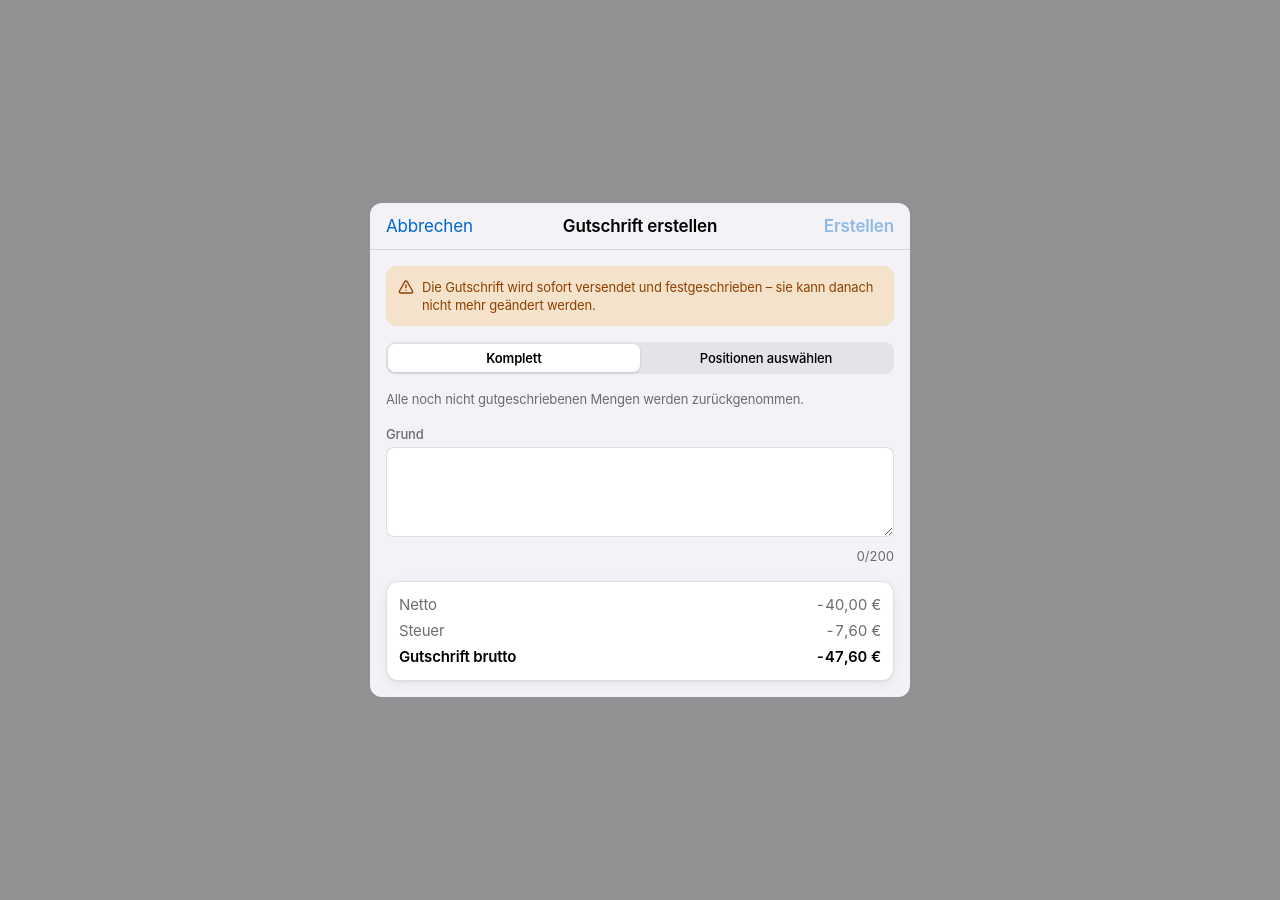
it: GutschriftSheet › zeigt Serverfehler im Sheet und lässt das Sheet offen
Type "Grund" into the text box labelled "Grund" at {"x": 640, "y": 492}, box top-left (386, 447), bottom-right (894, 537)
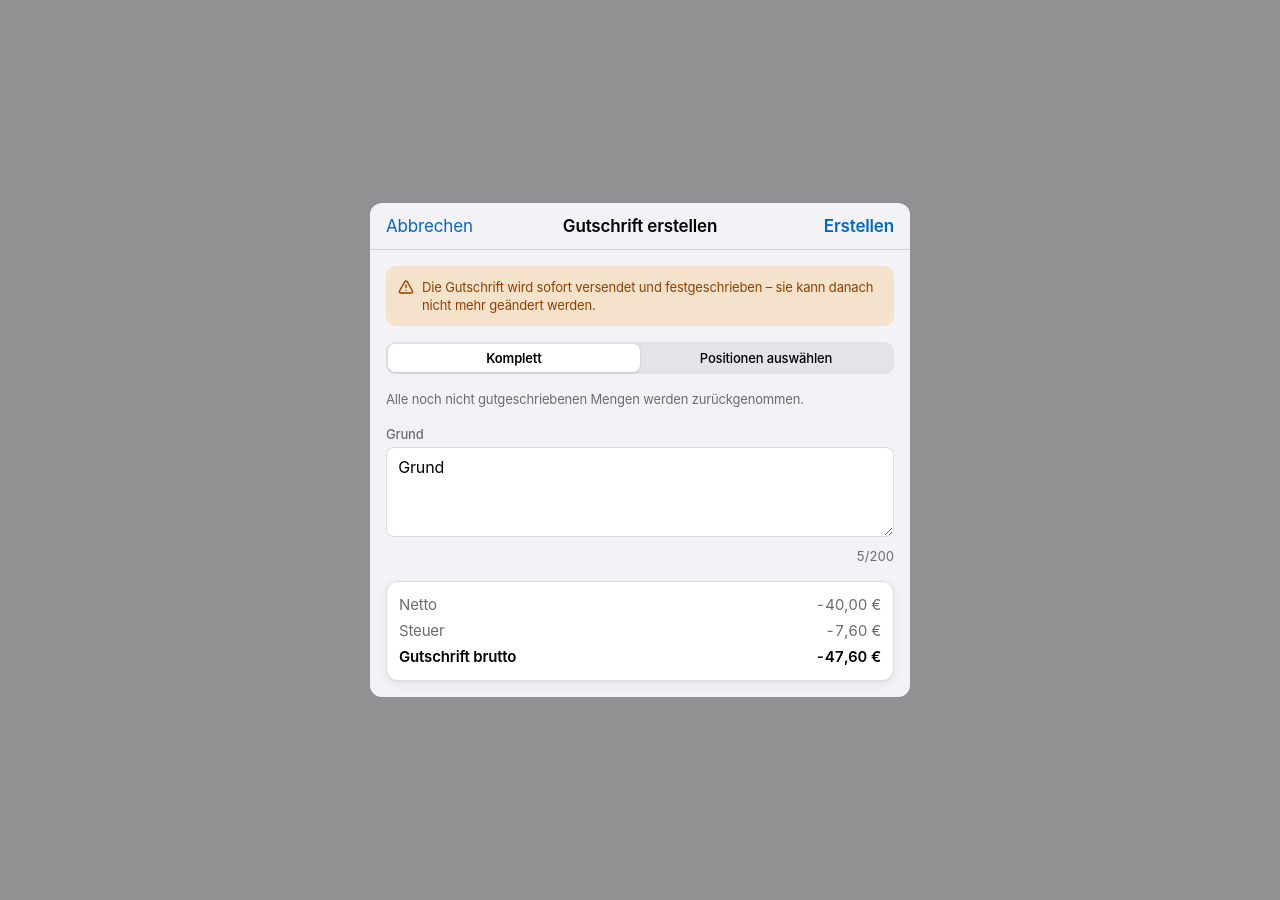
Click the button "Erstellen" at {"x": 859, "y": 226}, box top-left (824, 215), bottom-right (894, 237)
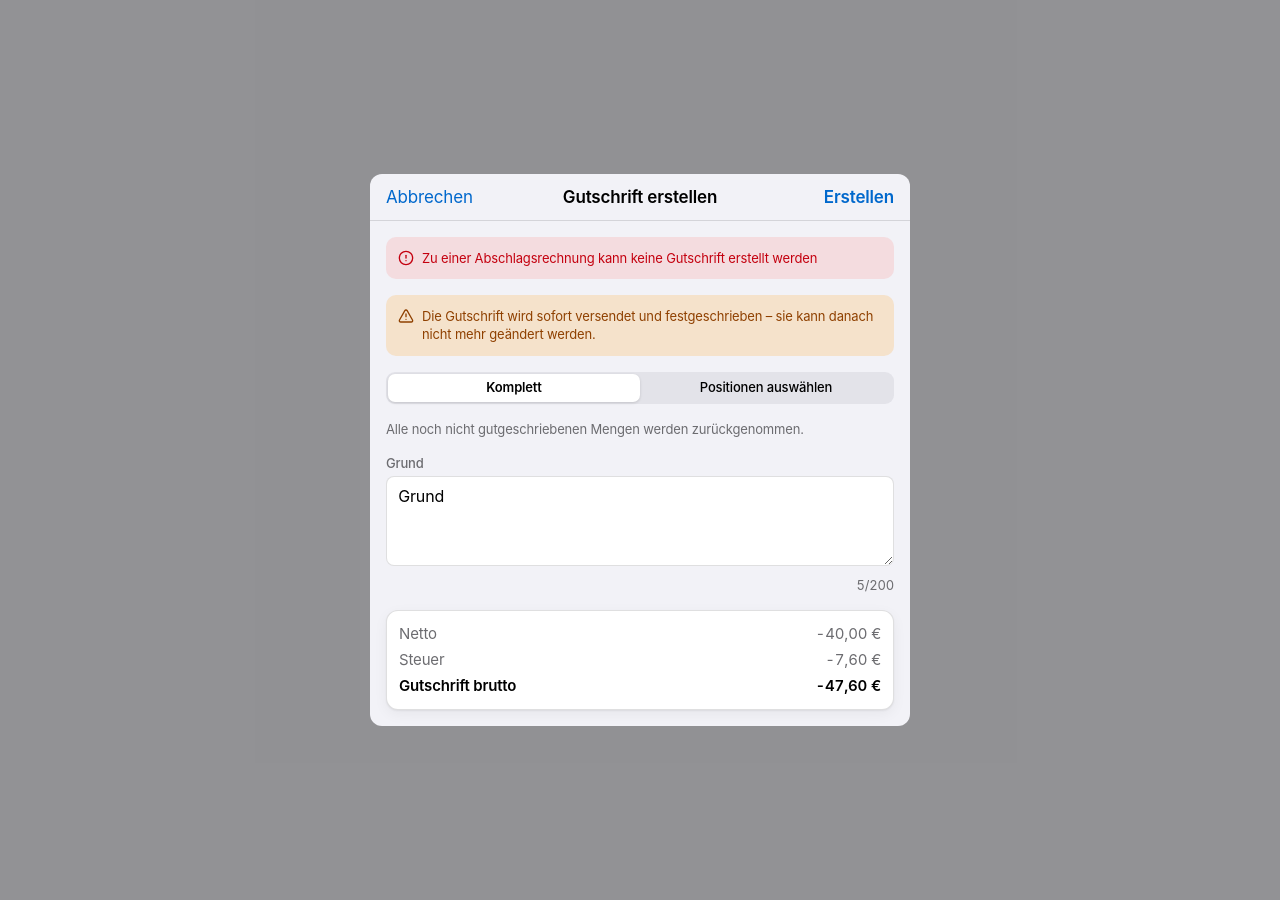
Check: the text "Zu einer Abschlagsrechnung kann keine Gutschrift" is shown, box top-left (422, 250), bottom-right (817, 266)
